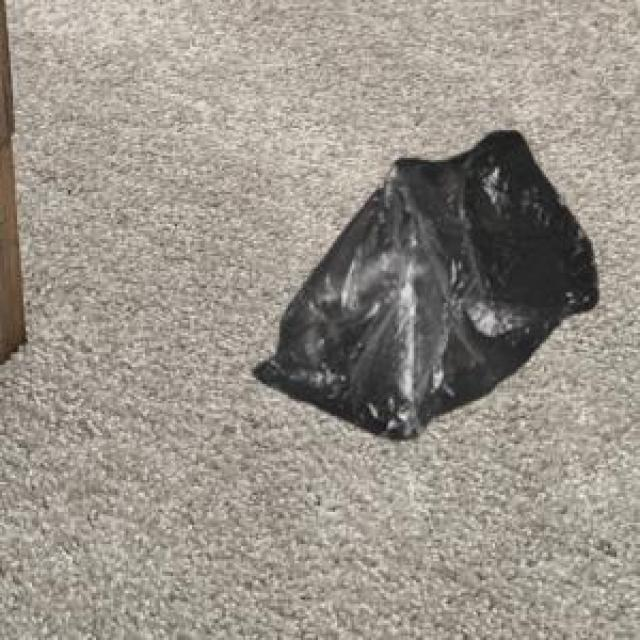waste: (256, 131, 599, 438)
